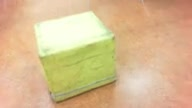cube: (34, 10, 117, 102)
